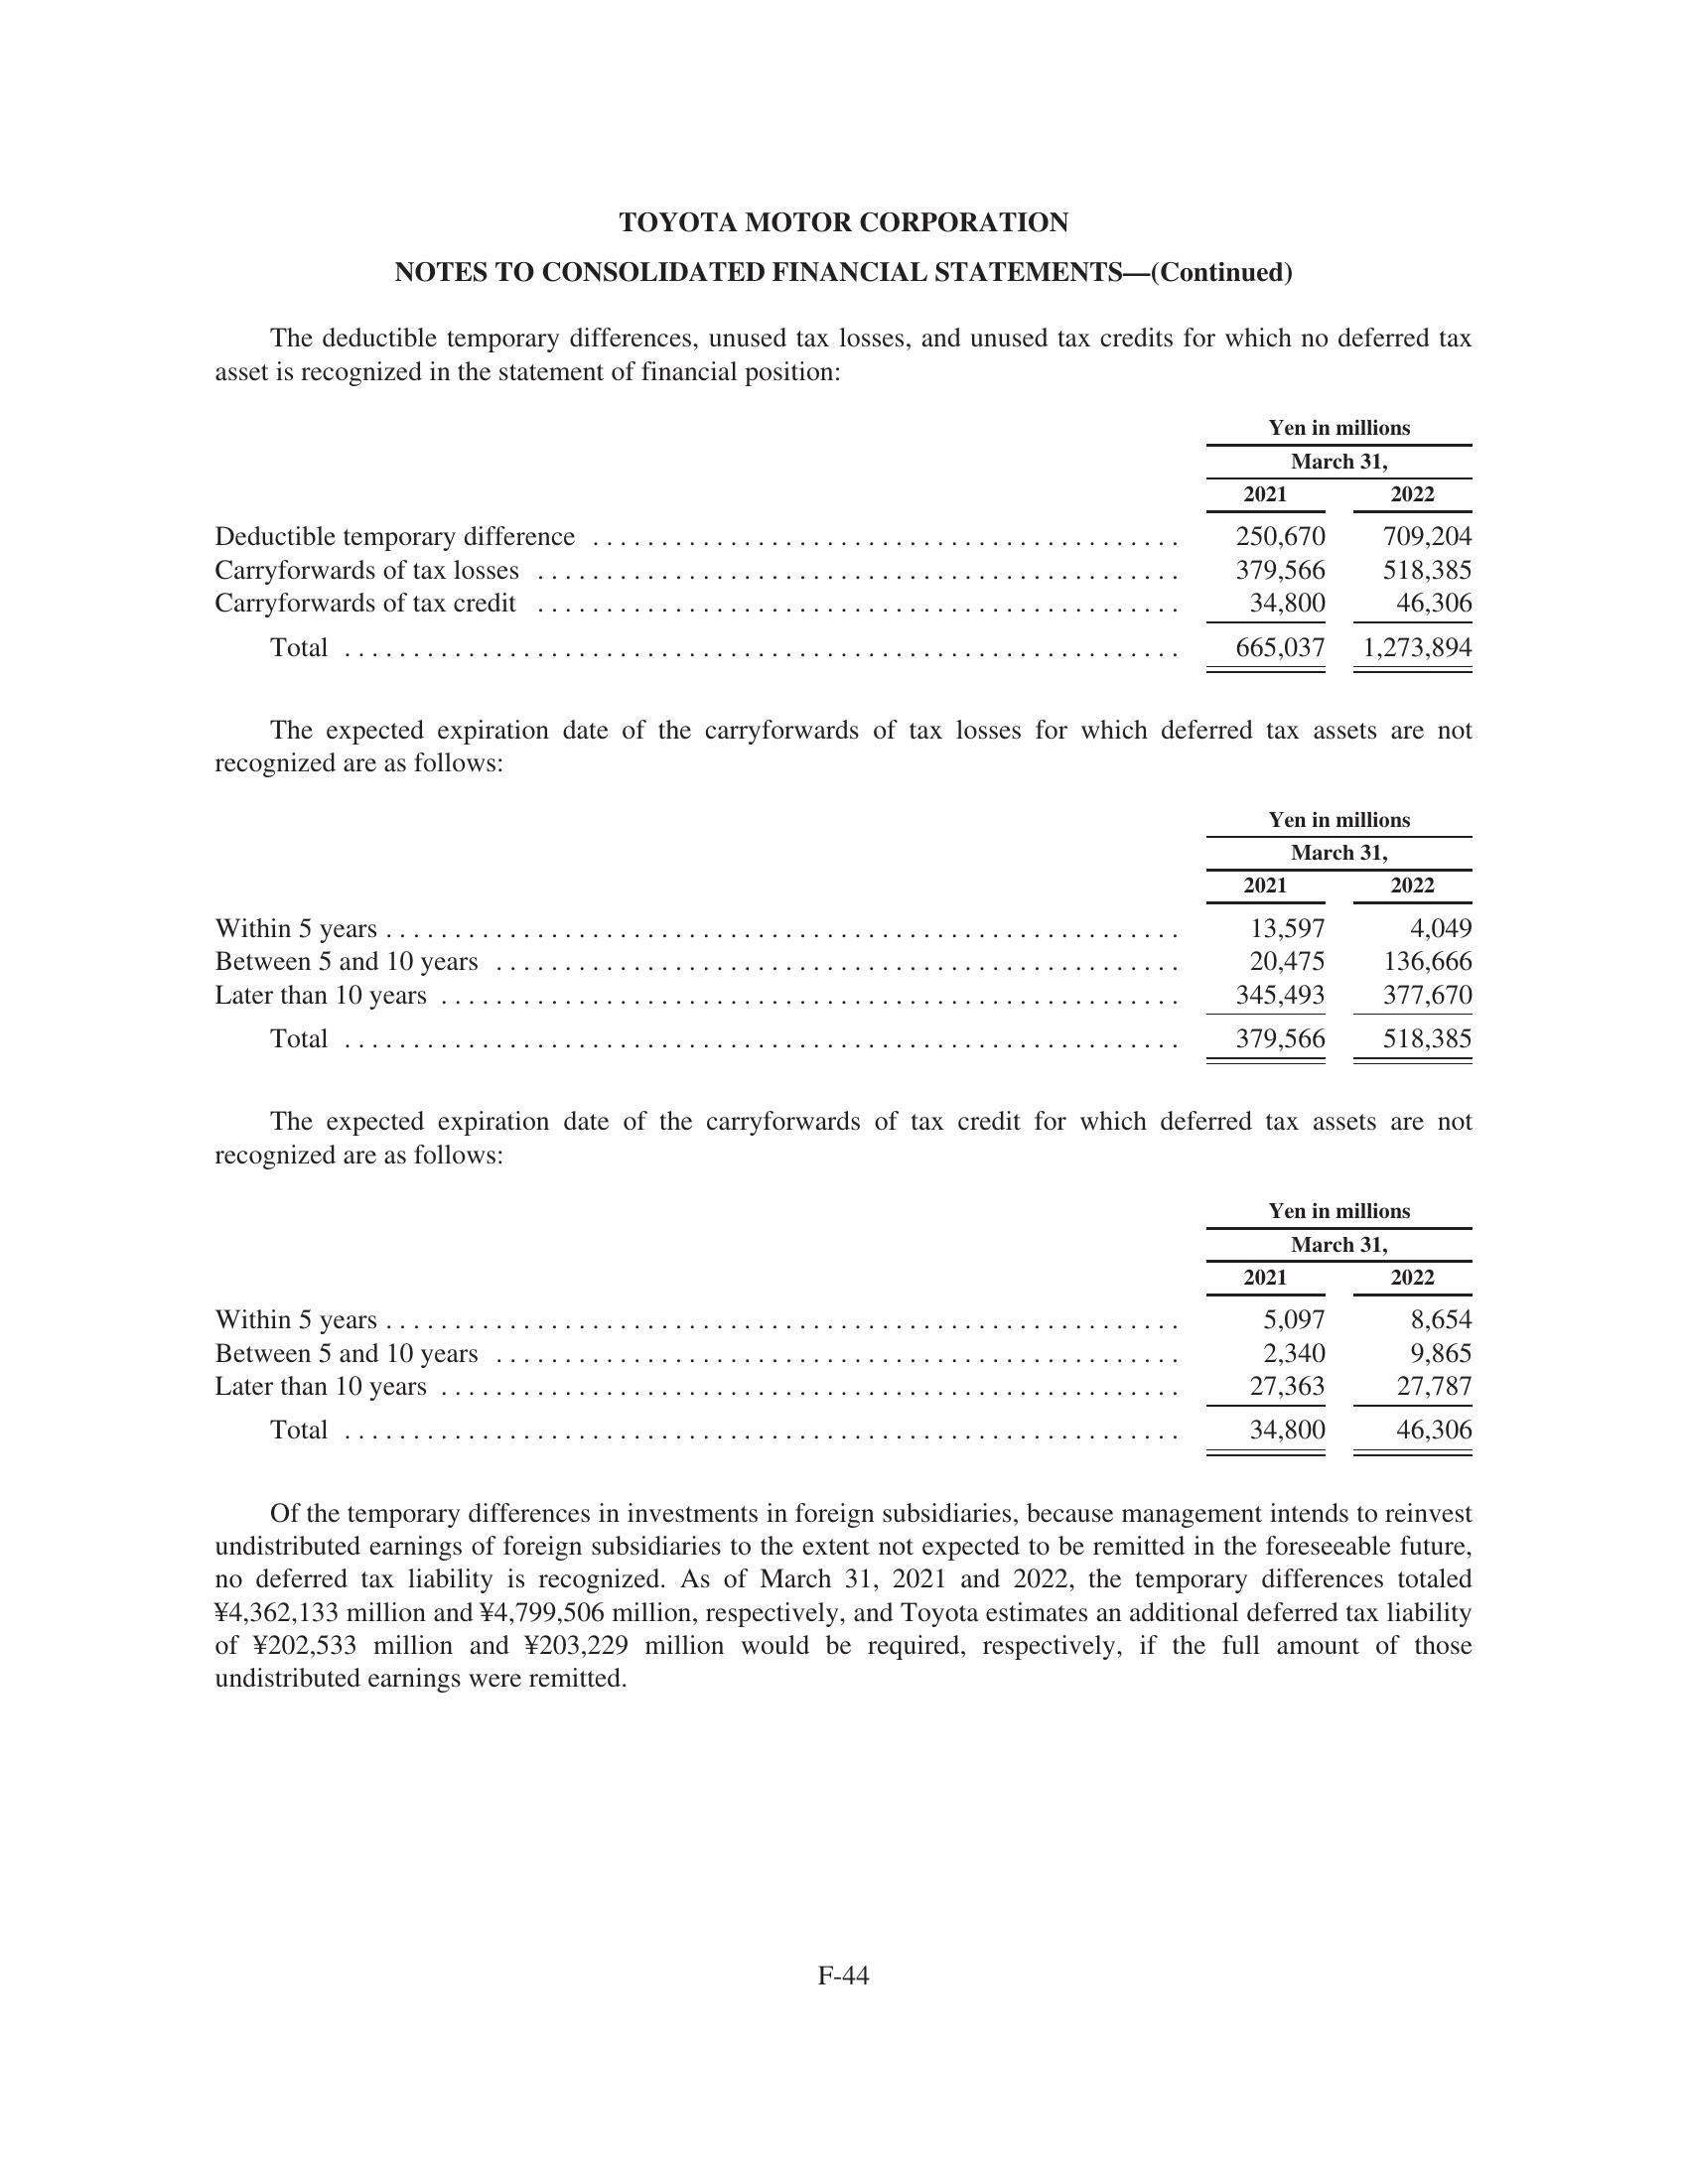Footer: (0, 1946, 1688, 2184)
Header: (0, 0, 1688, 179)
Table: (142, 1184, 1495, 1470), (145, 404, 1504, 681), (151, 796, 1512, 1069)
